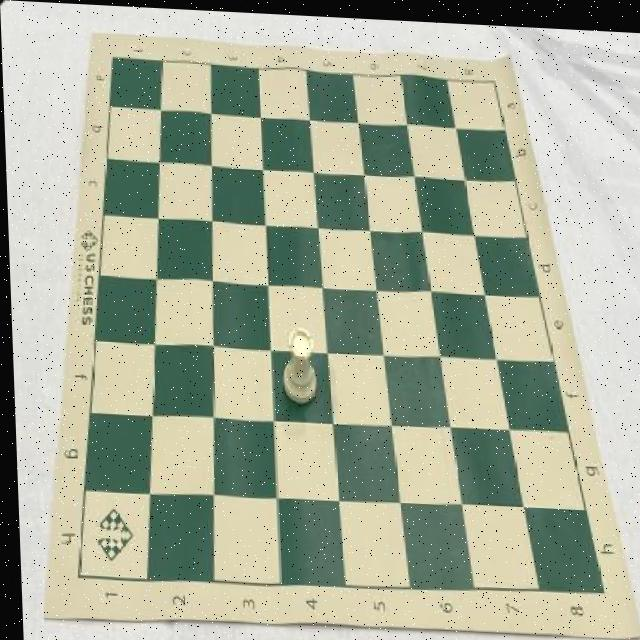white-queen: (278, 323, 315, 404)
